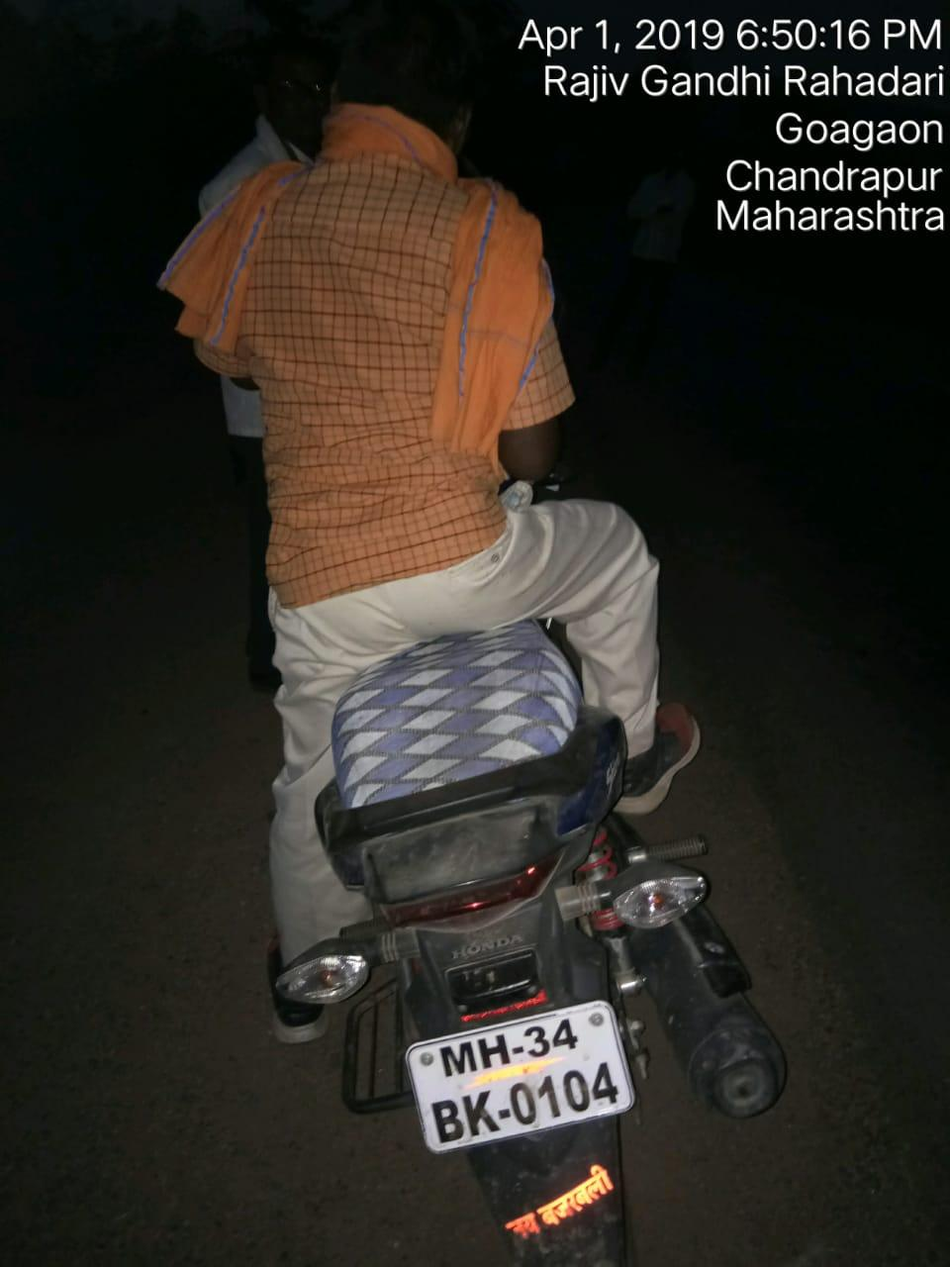plate: (370, 1000, 656, 1161)
